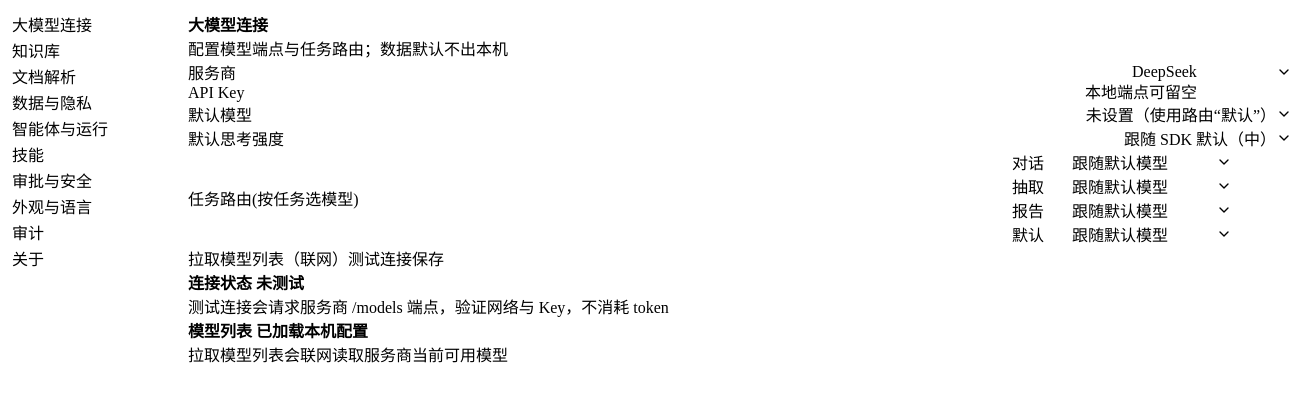
Test case: SettingsView › saves settings including canonical route keys via IPC
Expected: the text "已加载本机配置" is shown, [256,323,368,340]
Click the button "拉取模型列表（联网）" at [268, 258], box [188,246,348,270]
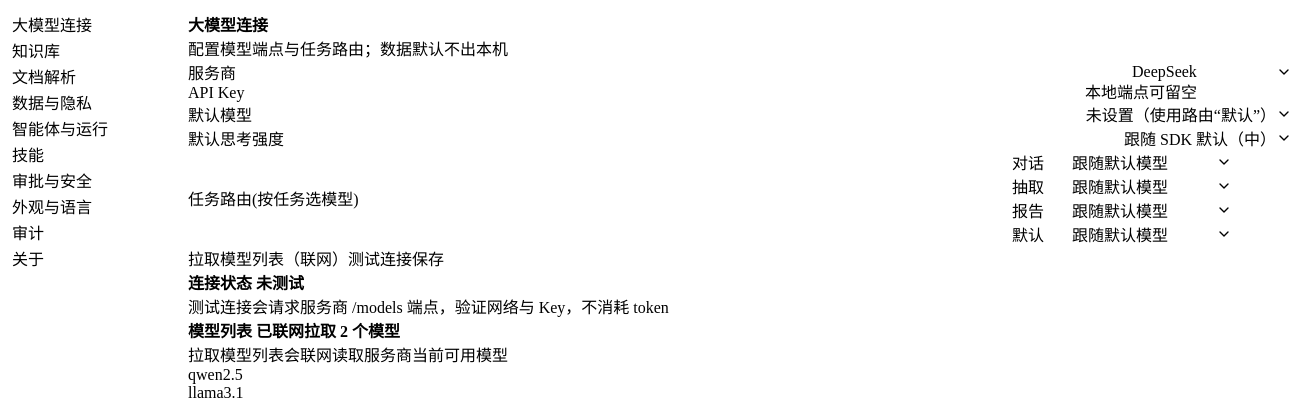
Now the text "已联网拉取 2 个模型" is shown, box [256,323,400,340]
Click the dropdown with test id "default-model-select" at [1189, 114], box [1086,102,1292,126]
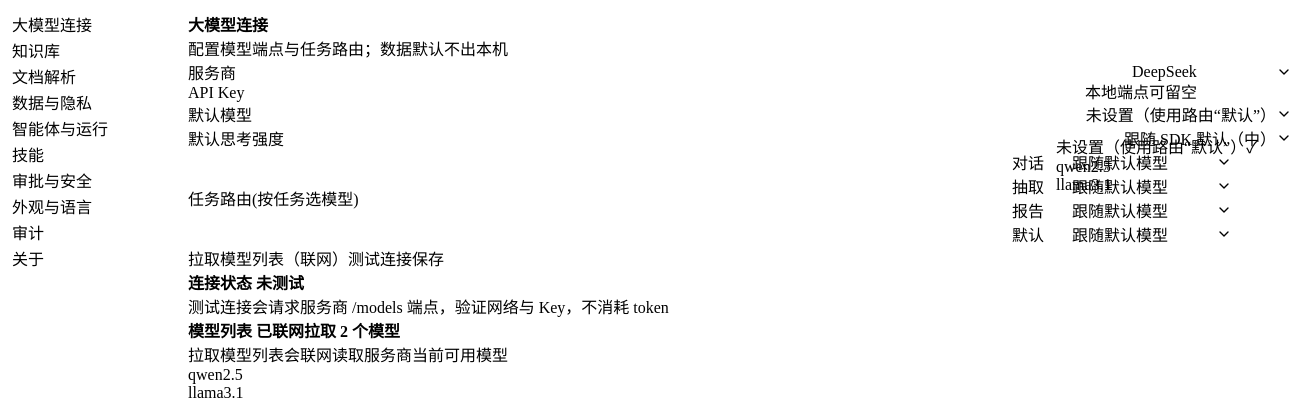
Click the menu item "qwen2.5" at [1166, 167], box [1056,158,1276,176]
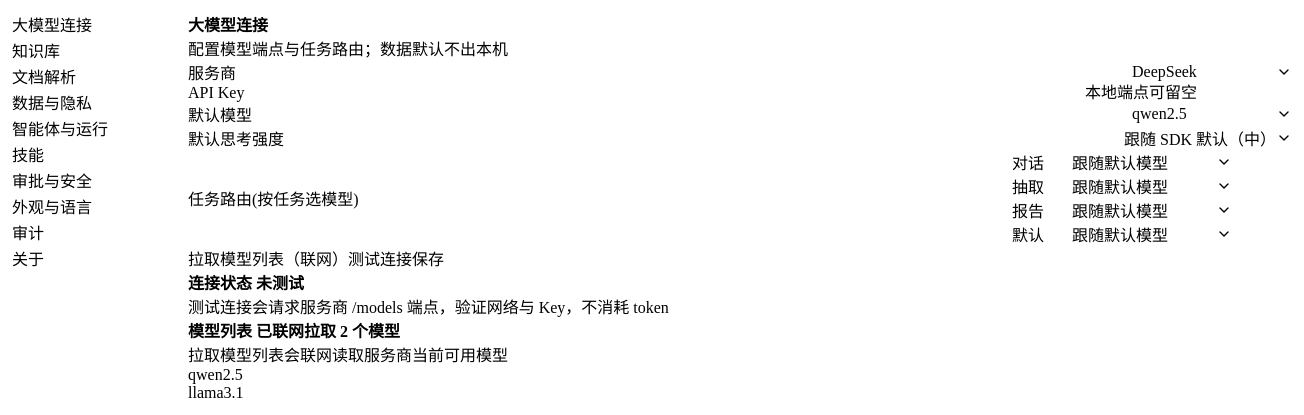
Click the button "保存" at [428, 258], box [412,246,444,270]
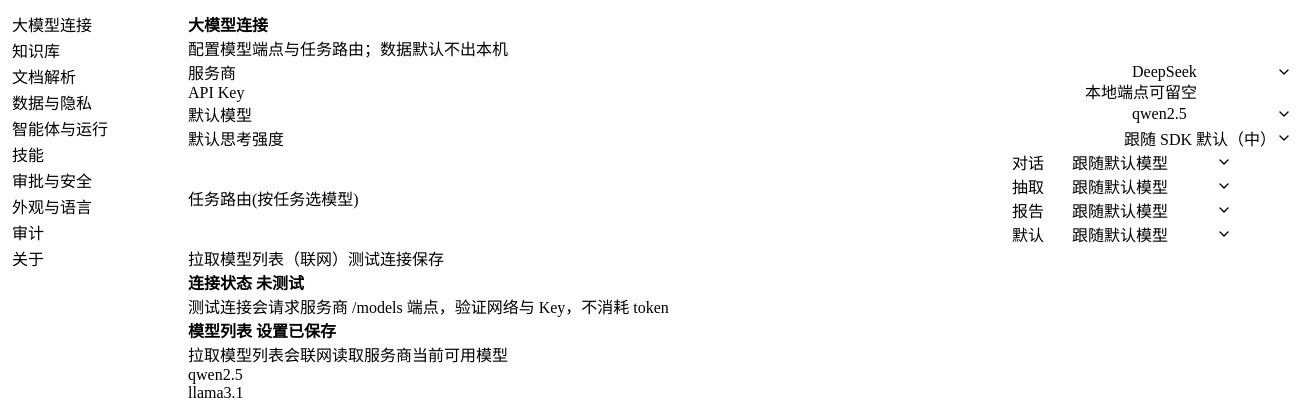
Now the text "设置已保存" is shown, box [256,323,336,340]
